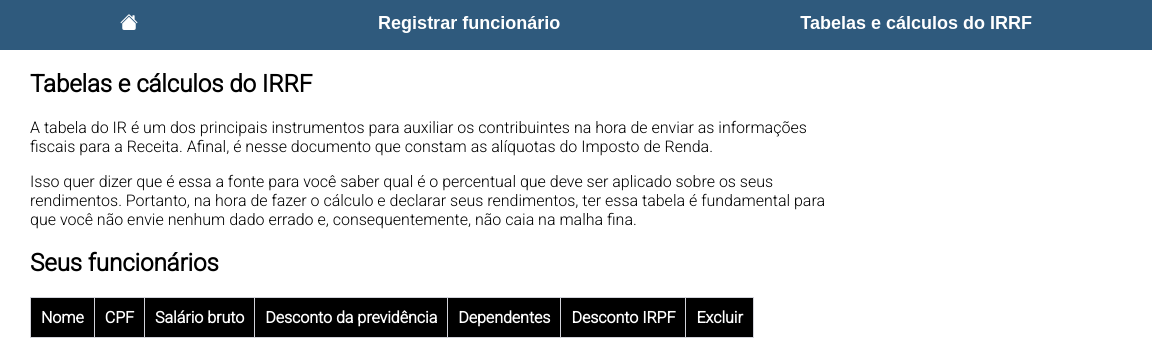
Scenario: a página de registrar funcionários possui os campos Nome, CPF, Salário bruto, Desconto da previdência e Número de dependentes como label
Click the button "Registrar funcionário" at (469, 24), box 372,12 -> 566,35
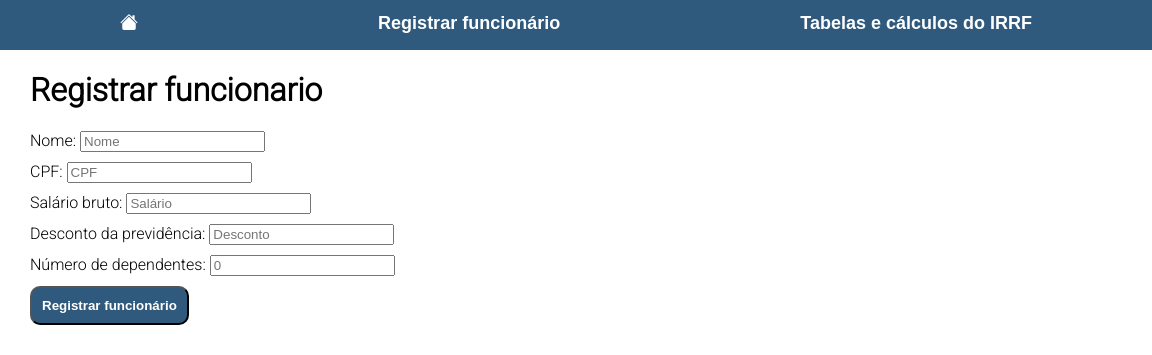
Expected: the text "Nome:" is shown, 30,131 -> 265,150
Expected: the text "CPF:" is shown, 30,162 -> 252,181
Expected: the text "Salário bruto:" is shown, 30,193 -> 311,212
